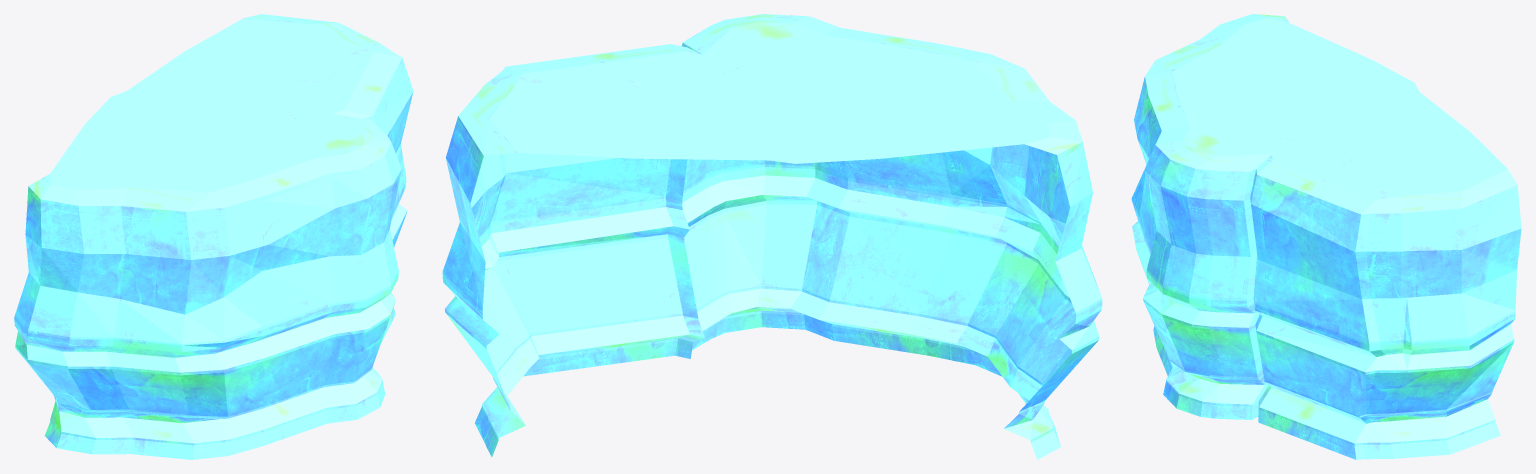
Rendered from DesertCliff.fbx.
3 views of the same model, side by side, from view 1: azimuth 30°, elevation 25°; view 2: azimuth 150°, elevation 25°; view 3: azimuth 270°, elevation 25° (orthographic). The views are drawn at different scales.
Parts seen in each view (by area): view 1: HL_Cliff_Rock_A.mo; view 2: HL_Cliff_Rock_A.mo; view 3: HL_Cliff_Rock_A.mo.
Part boxes in pixels (left/top/right/bottom): HL_Cliff_Rock_A.mo: left=14, top=14, right=413, bottom=459; HL_Cliff_Rock_A.mo: left=442, top=14, right=1102, bottom=459; HL_Cliff_Rock_A.mo: left=1131, top=14, right=1521, bottom=459.
Size of the model in its own units: 2821 by 1584 by 2200.
